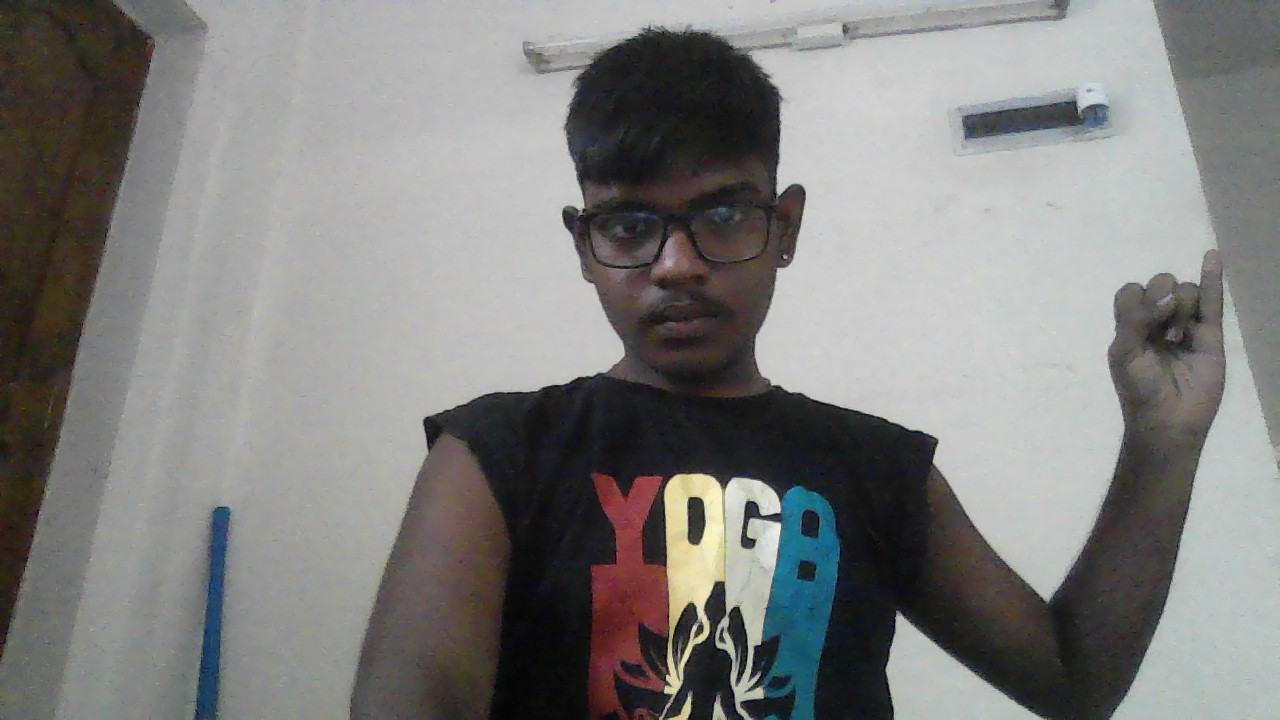I: (1109, 249, 1227, 448)
